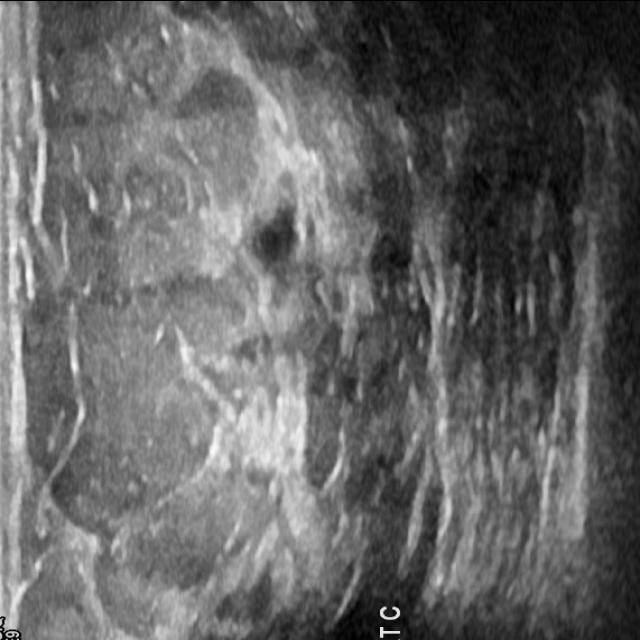Normal: (32, 26, 618, 598)
